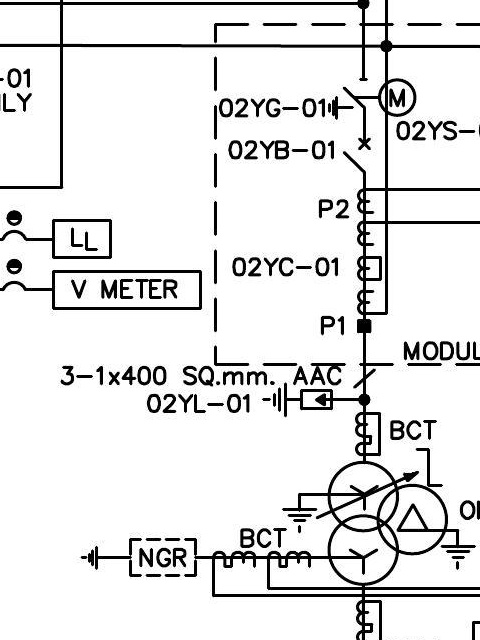11522_tx_ynyn0d1: (275, 287, 287, 311)
115_1way_ds_w_motor: (225, 191, 229, 205)
115_3ways_ds_w_motor: (272, 51, 283, 61), (178, 51, 189, 61), (275, 172, 284, 180), (275, 218, 284, 226), (182, 171, 190, 179)
115_breaker: (277, 229, 280, 235), (183, 164, 186, 170), (277, 164, 279, 171)
115_la: (175, 73, 182, 80), (269, 273, 276, 280), (269, 74, 276, 80)
115_vt_1p: (224, 220, 239, 248)
115_vt_3p: (281, 64, 295, 95), (188, 64, 202, 93)
22_breaker: (19, 371, 22, 394), (278, 371, 281, 394), (309, 371, 312, 394), (326, 371, 329, 394), (387, 371, 390, 394), (424, 371, 427, 394), (52, 372, 55, 394), (147, 372, 150, 394), (166, 372, 169, 394), (99, 367, 102, 388), (225, 356, 235, 361), (405, 371, 407, 394), (84, 372, 86, 394), (186, 372, 188, 394), (344, 367, 346, 386)
22_cap_bank: (5, 475, 41, 519), (409, 471, 445, 515)
22_ds: (205, 371, 209, 397), (260, 372, 263, 397)
22_ds_la_out: (183, 477, 190, 501), (306, 477, 313, 500), (50, 477, 56, 501), (81, 477, 87, 501), (145, 477, 151, 501), (164, 477, 170, 501), (276, 477, 282, 501), (324, 477, 330, 501), (385, 477, 391, 501), (402, 477, 408, 501)
22_ds_out: (15, 437, 19, 446), (48, 437, 52, 446), (143, 437, 147, 446), (202, 433, 206, 442), (274, 437, 278, 446), (305, 437, 309, 446), (322, 437, 326, 446), (383, 437, 387, 446), (80, 437, 83, 446), (163, 437, 166, 446), (182, 437, 185, 446), (257, 437, 260, 446), (401, 437, 404, 446), (420, 437, 423, 446), (96, 478, 99, 486), (340, 478, 343, 486)
22_gs: (22, 434, 26, 437), (55, 434, 59, 437), (329, 434, 333, 437), (390, 434, 394, 437), (87, 434, 90, 437), (150, 434, 153, 437), (170, 434, 173, 437), (189, 434, 192, 437), (209, 430, 212, 433), (264, 434, 267, 437), (281, 434, 284, 437), (312, 434, 315, 437), (408, 434, 411, 437), (427, 434, 430, 437), (102, 476, 105, 478), (346, 476, 349, 478)
22_ll: (243, 371, 257, 412), (213, 372, 227, 412)
DIM: (63, 421, 69, 429), (237, 117, 243, 125), (330, 117, 336, 125), (289, 423, 295, 431), (358, 417, 364, 425), (231, 420, 237, 427), (115, 417, 120, 424)
DPM: (307, 329, 313, 337), (249, 243, 255, 251), (236, 431, 241, 438), (220, 68, 225, 74), (314, 68, 319, 74), (213, 427, 218, 433)
MU: (251, 302, 263, 309)
NGR_future: (35, 458, 40, 464), (439, 458, 444, 464)
remote_io_module: (203, 162, 210, 174), (296, 159, 303, 171)
tele_protection: (278, 335, 283, 340), (100, 490, 105, 495)
terminator_double: (186, 471, 189, 475), (261, 497, 264, 501), (207, 497, 209, 501), (20, 470, 22, 474), (53, 471, 55, 475), (84, 471, 86, 475), (148, 471, 150, 475), (279, 471, 281, 475), (405, 471, 407, 475), (425, 465, 427, 469), (167, 471, 169, 474), (310, 471, 312, 474), (327, 471, 329, 474), (388, 471, 390, 474)
terminator_splicing_kits: (84, 442, 90, 447), (186, 442, 192, 447), (261, 442, 267, 447), (20, 442, 25, 447), (53, 442, 58, 447), (148, 442, 153, 447), (167, 442, 172, 447), (207, 438, 212, 443), (279, 442, 284, 447), (310, 442, 315, 447), (327, 442, 332, 447), (388, 442, 393, 447), (405, 442, 410, 447), (425, 442, 430, 447)
terminator_w_future: (297, 317, 301, 324)
v_m: (249, 253, 263, 260)
